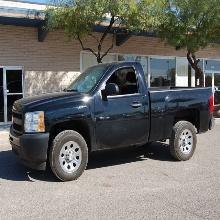no damage: (9, 61, 214, 182)
